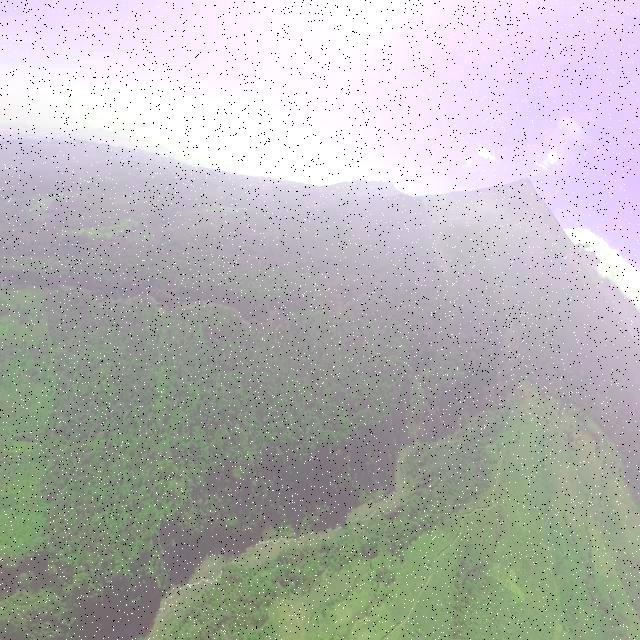Plume: (546, 150, 557, 171)
Summit: (515, 170, 536, 196)
